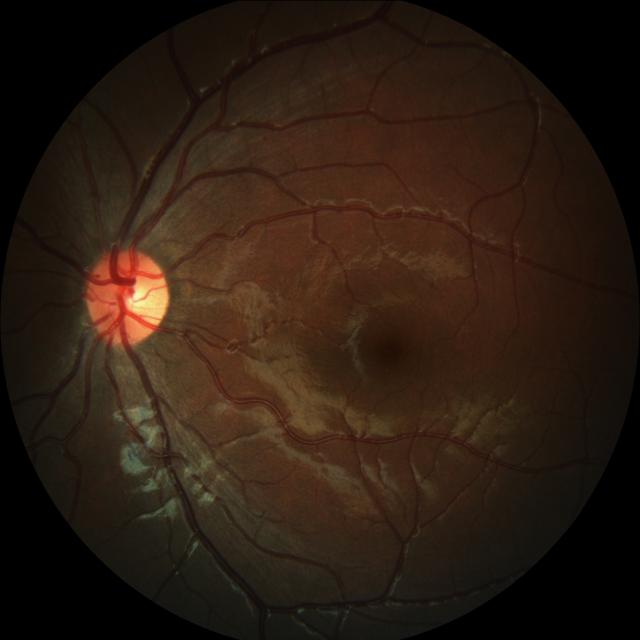OC: (110, 277, 149, 320)
OD: (83, 247, 168, 344)
